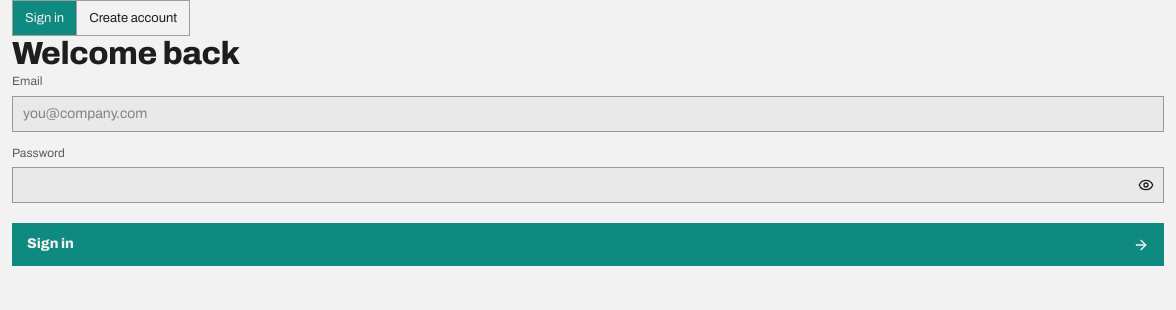
it: login submit › network failure → form-level message
Type "mara@taskmaster.app" into the field labelled "Email" at (588, 114), box x1=12 y1=96 x2=1164 y2=132
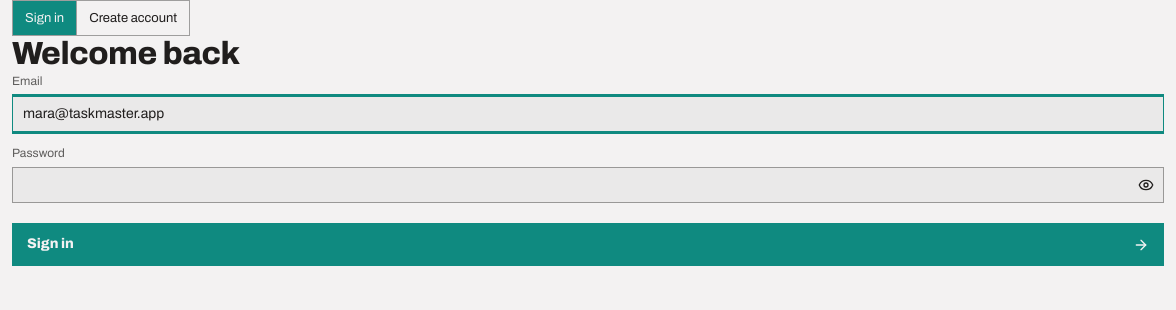
Type "correct horse" into the password field labelled "Password" at (588, 185), box x1=12 y1=167 x2=1164 y2=203
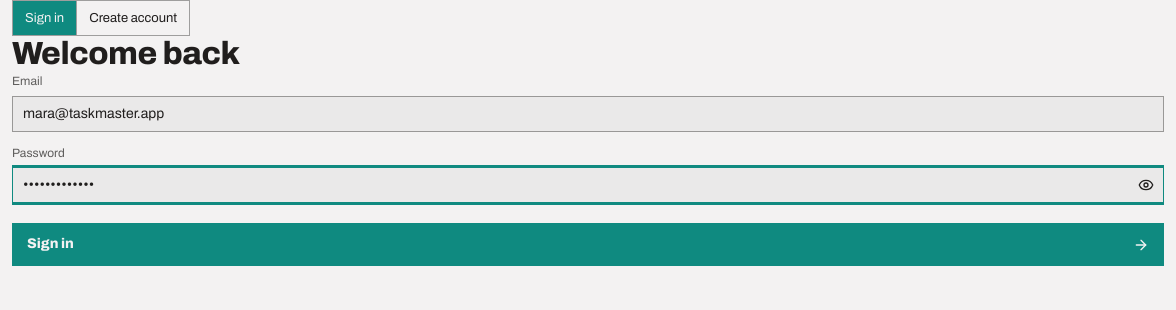
Click the button "Sign in" at (50, 244), box x1=12 y1=223 x2=1164 y2=266
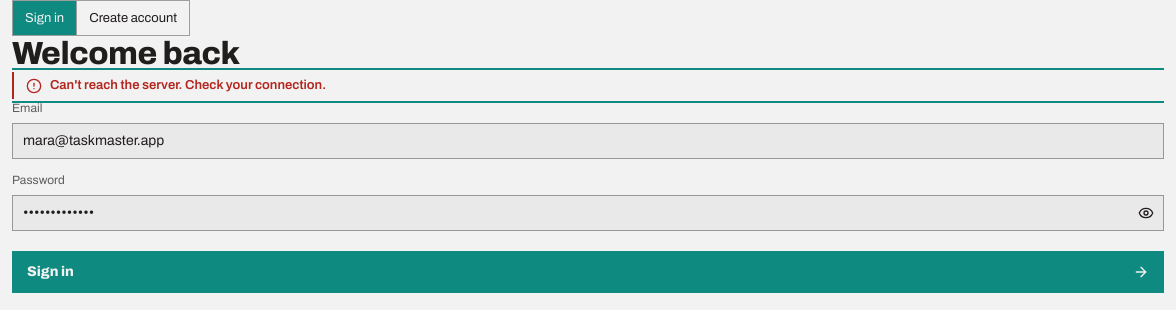
Expected: the message reads "Can't reach the server. Check your connection.", x1=50 y1=78 x2=326 y2=92
